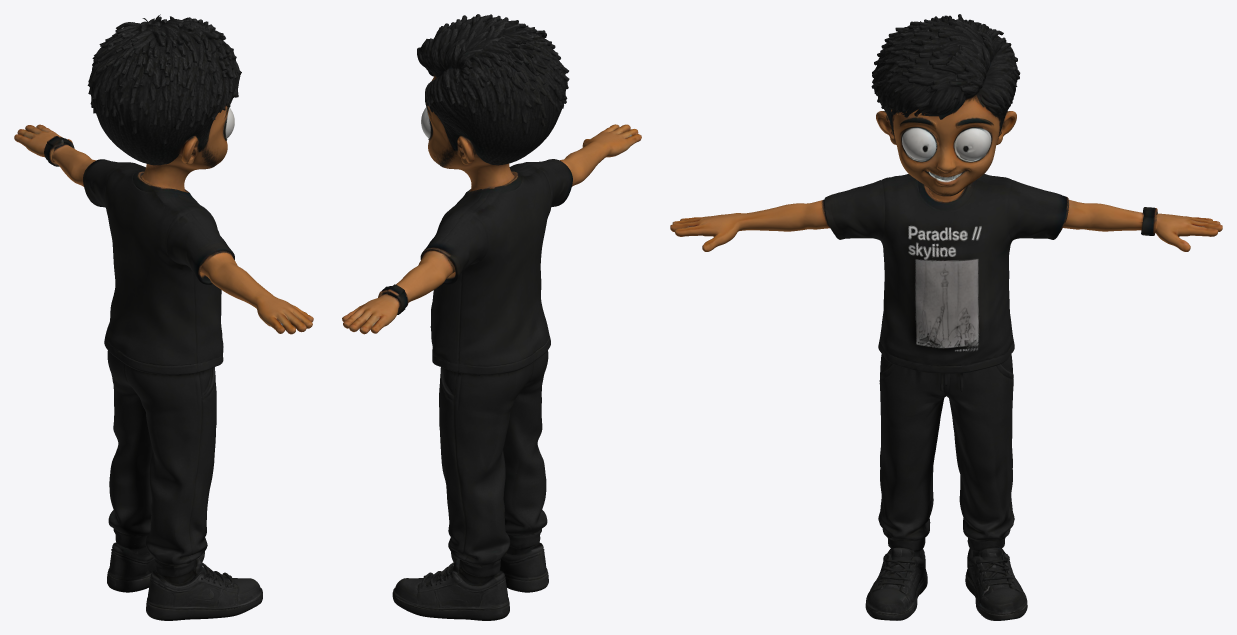
The model's file is tripo_convert_3c520113-1d23-453a-8dd1-40dc760739ad.fbx.
3 renders of one model, left to right at view 1: azimuth 30°, elevation 25°; view 2: azimuth 150°, elevation 25°; view 3: azimuth 270°, elevation 25°, orthographic.
Parts seen in each view (by area): view 1: tripo_node_3c520113; view 2: tripo_node_3c520113; view 3: tripo_node_3c520113.
Boxes of the visible parts, x1,y1,x2,y2 form: tripo_node_3c520113: (14, 14, 313, 620); tripo_node_3c520113: (342, 14, 641, 620); tripo_node_3c520113: (670, 14, 1222, 620).
Size of the model in its own units: 0.2431 by 0.9786 by 0.8561.
Materials: 1 (1 with a texture image).
